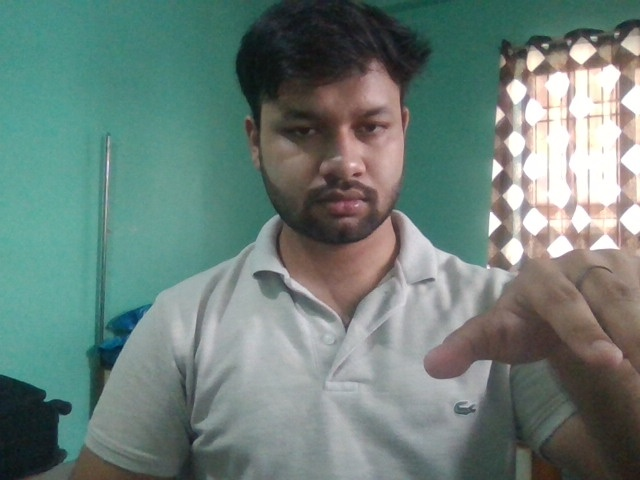No: (424, 243, 640, 396)
